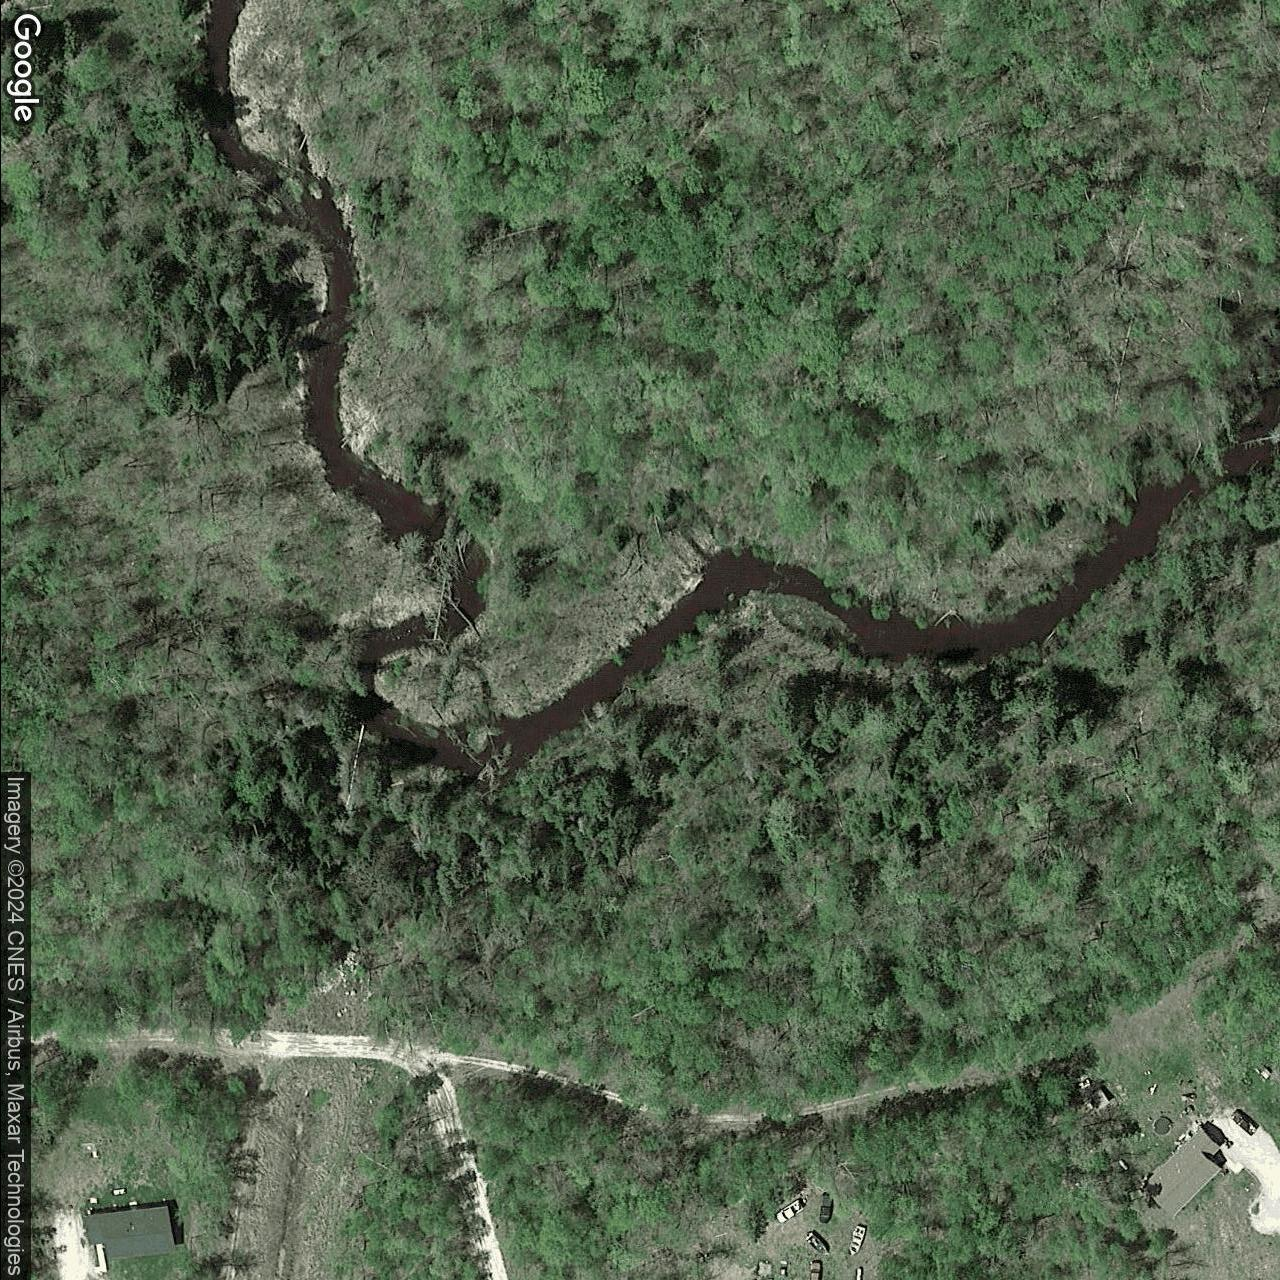House: (1141, 1124, 1223, 1220), (81, 1205, 177, 1261)
Propane: (1116, 1157, 1130, 1172), (110, 1186, 128, 1197), (852, 1267, 865, 1280)
